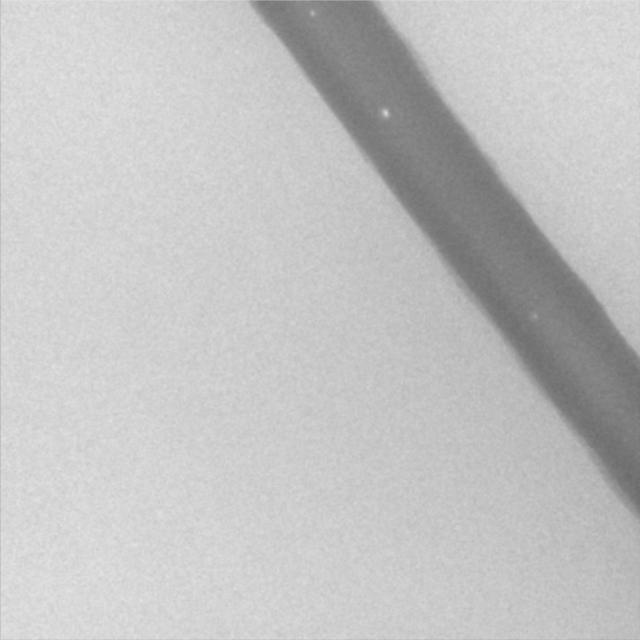air hole: (380, 107, 390, 119), (309, 8, 315, 17)
